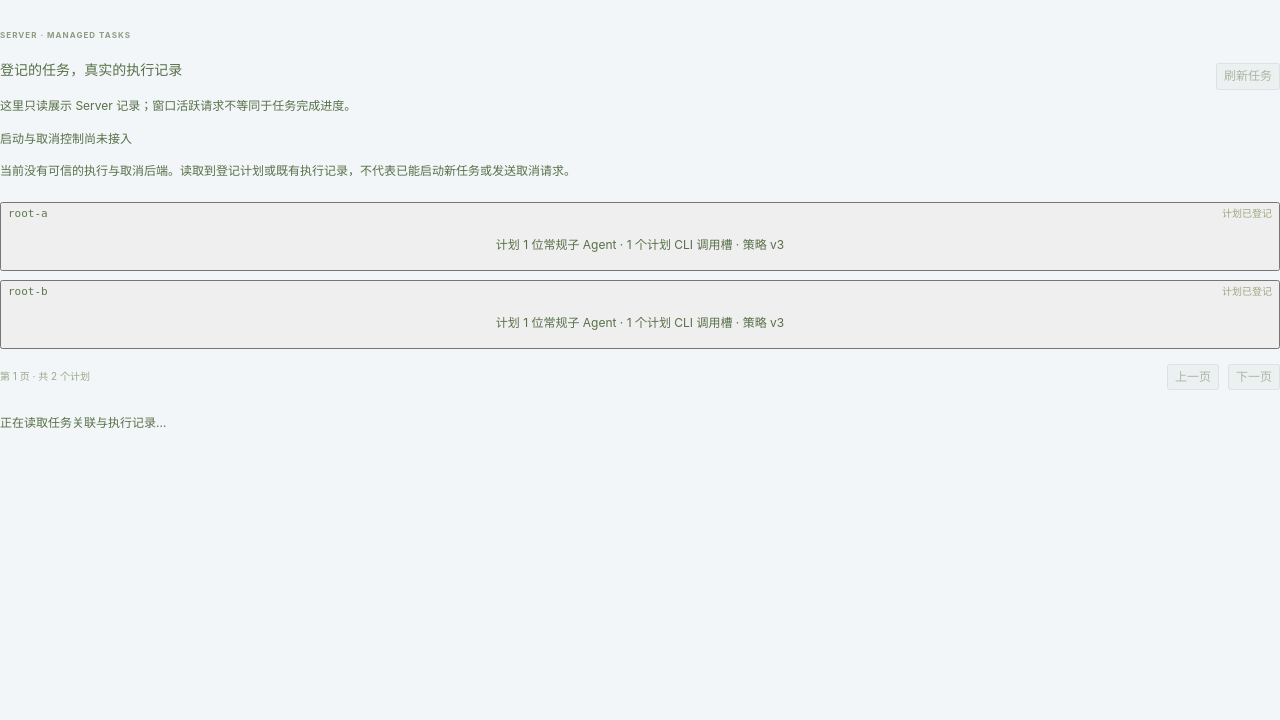
it: managed team task panel › discards old detail responses after another task is selected
What coordinates should you click on to do the following:
click the button with aria-label "查看任务 root-b"
I would click on:
 (640, 314)
Its box is [0,280,1279,349].
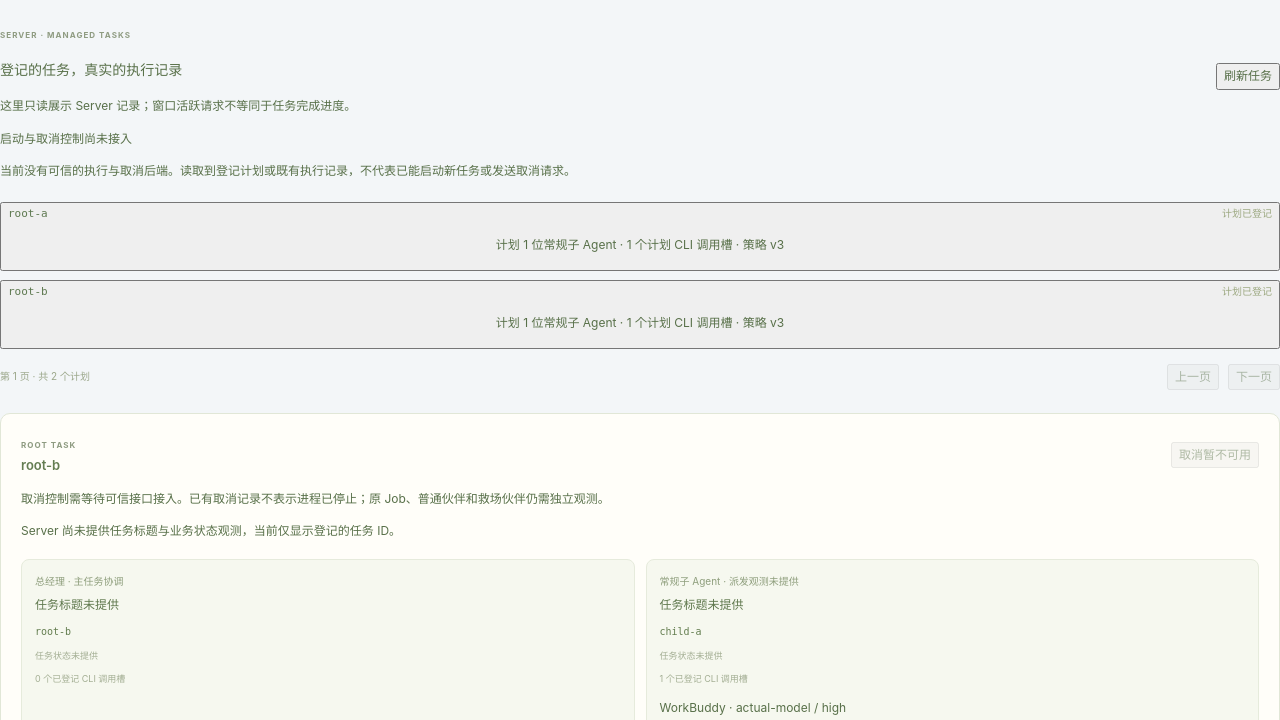
Check: the heading "root-b" is shown, box [21,457,60,473]
